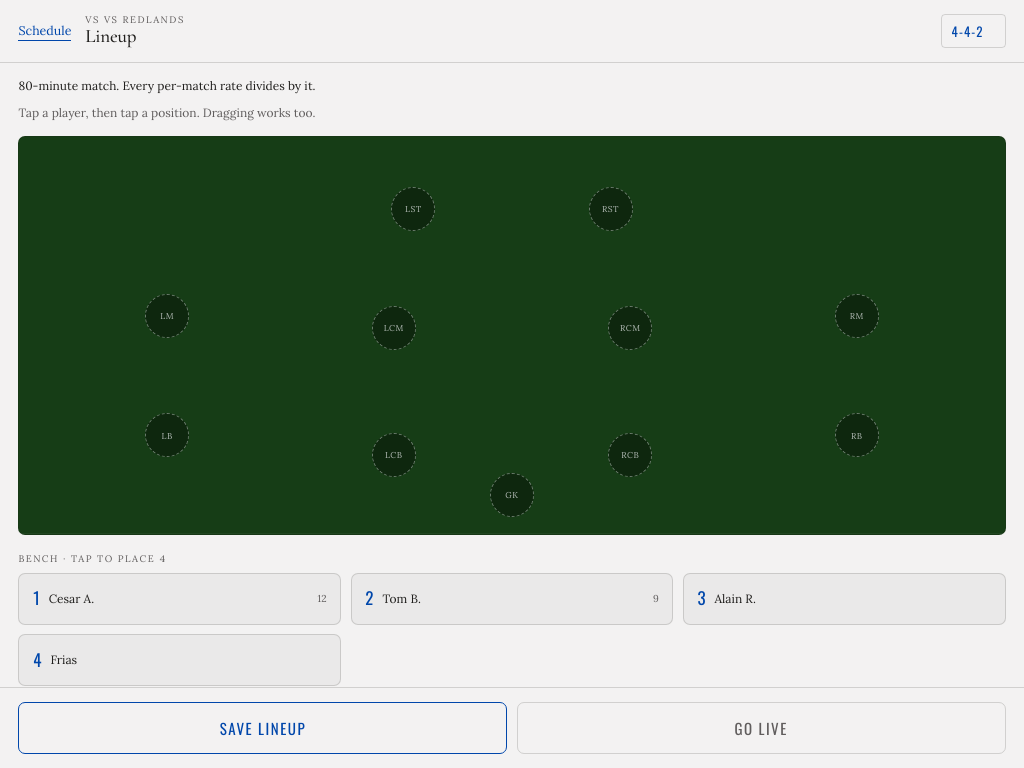
saving › refuses without an organization rather than saving nothing
Click the button "Save lineup": (263, 728) [18,702,507,754]
(page scrolled)
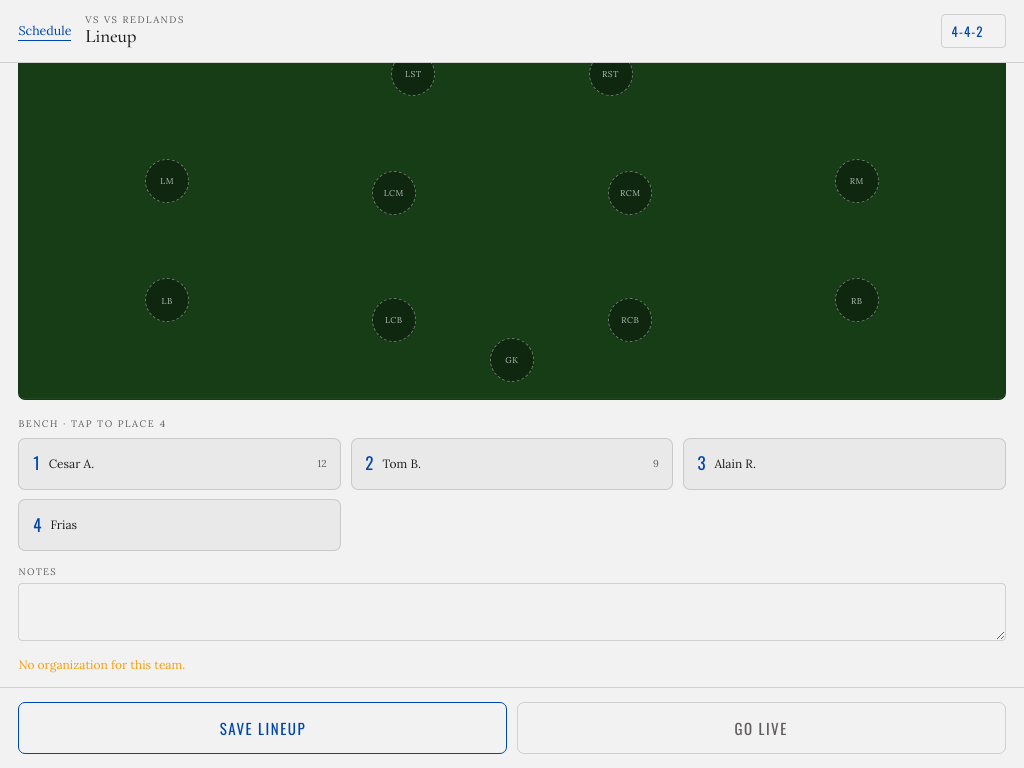
Now the message "No organization for this team." is shown, box [18,657,185,672]
